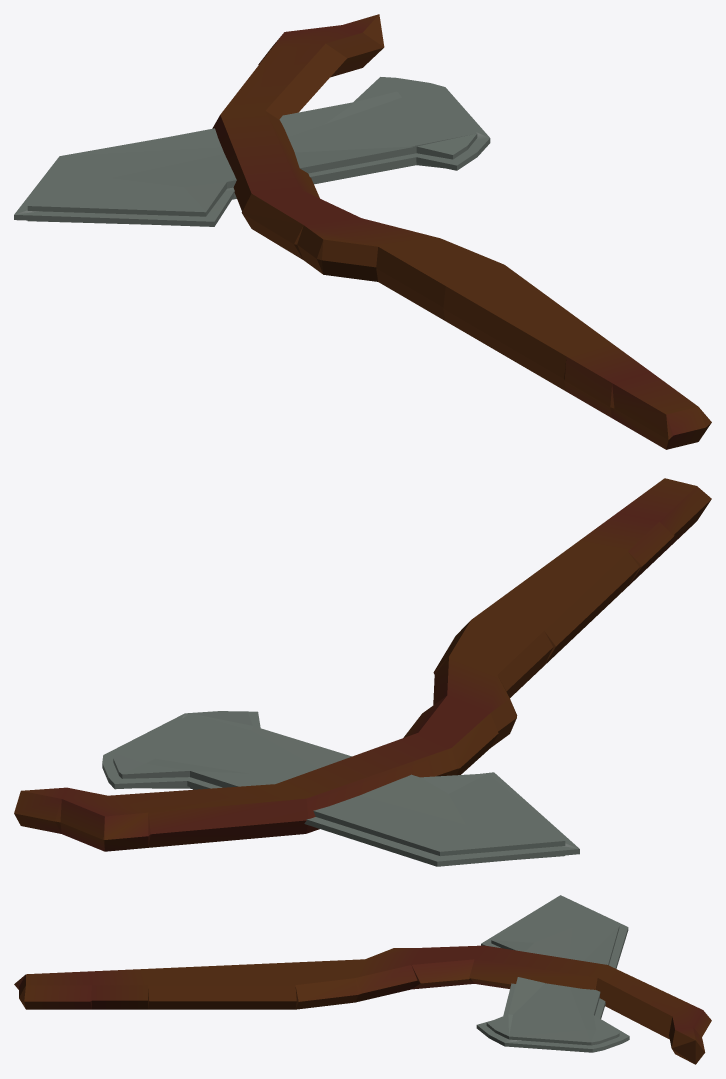
Rendered from OrcStaffAxe.fbx.
3 views of the same model, one above another, from view 1: azimuth 30°, elevation 25°; view 2: azimuth 150°, elevation 25°; view 3: azimuth 270°, elevation 25° (orthographic). The views are drawn at different scales.
Visible parts, largest first — view 1: Plane, Circle; view 2: Plane, Circle; view 3: Plane, Circle.
Part boxes in pixels (x1=…): Plane: x1=212, y1=14, x2=711, y2=449; Circle: x1=14, y1=77, x2=490, y2=226; Plane: x1=14, y1=478, x2=711, y2=851; Circle: x1=102, y1=711, x2=579, y2=866; Plane: x1=14, y1=945, x2=711, y2=1064; Circle: x1=476, y1=895, x2=629, y2=1052.
Bounding box in the file's own units: 352 × 25.62 × 661.
